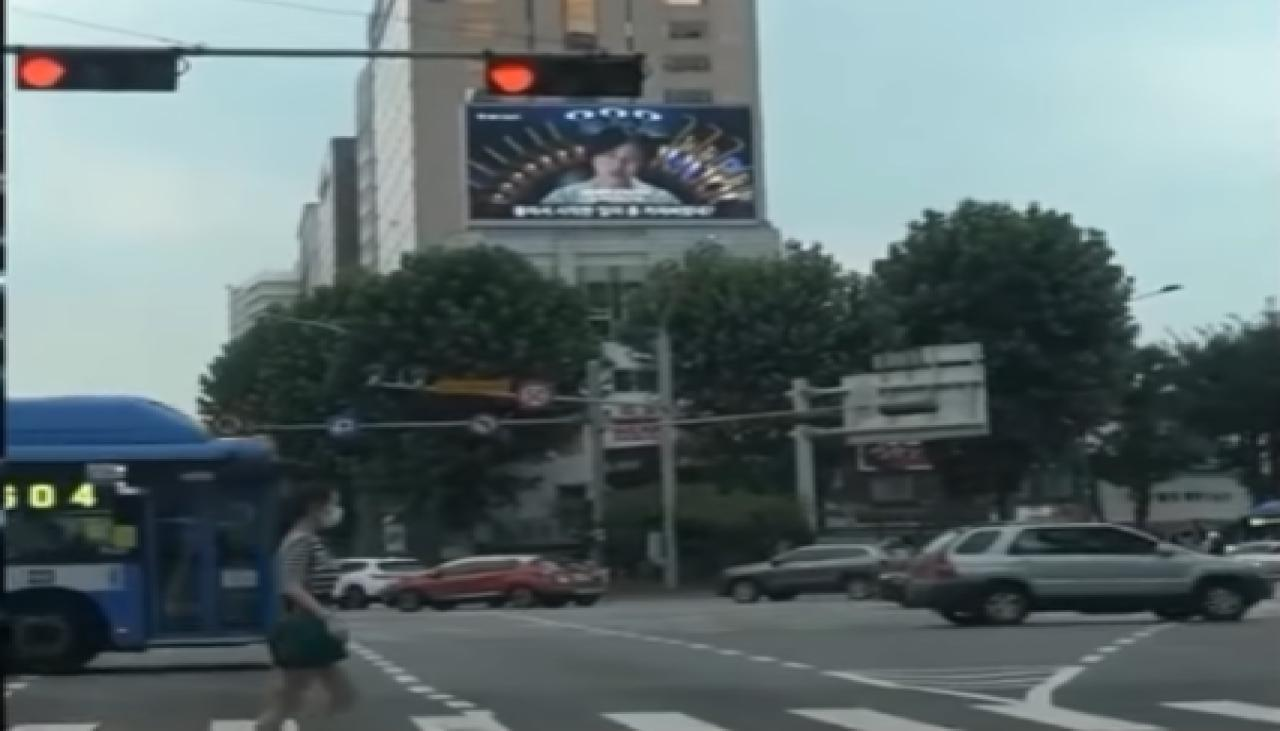Red Light: (18, 50, 75, 89), (482, 56, 540, 94)
